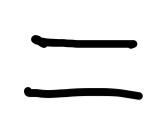eqv: (23, 33, 144, 101)
